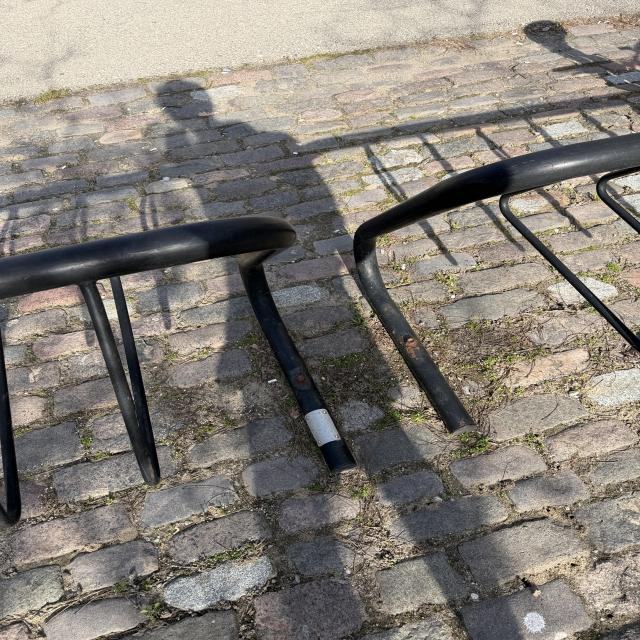Bicycle Rack: (0, 215, 356, 485), (358, 138, 640, 434)
